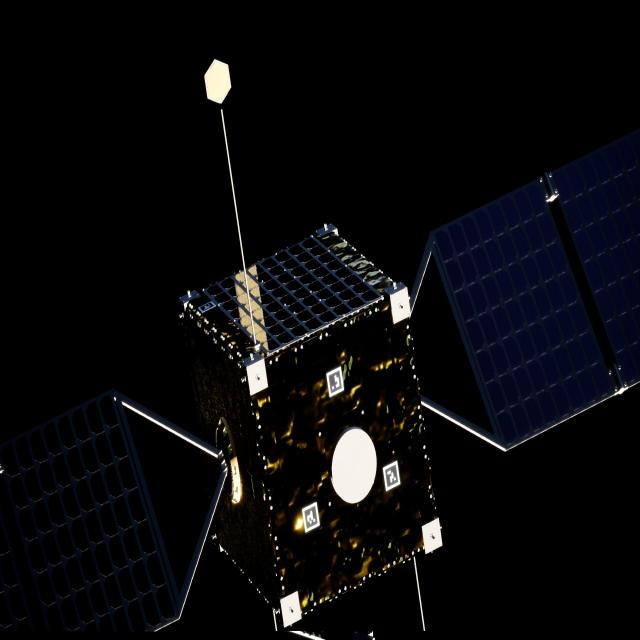satellite: (0, 128, 640, 637)
